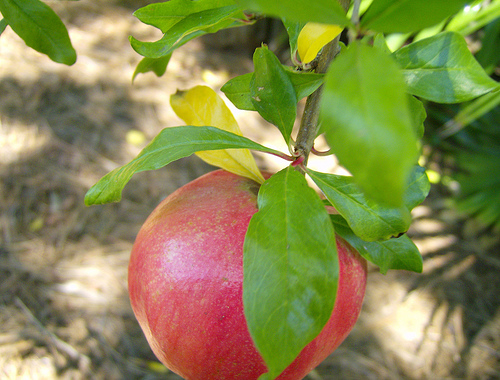pomogranate: (125, 166, 370, 379)
